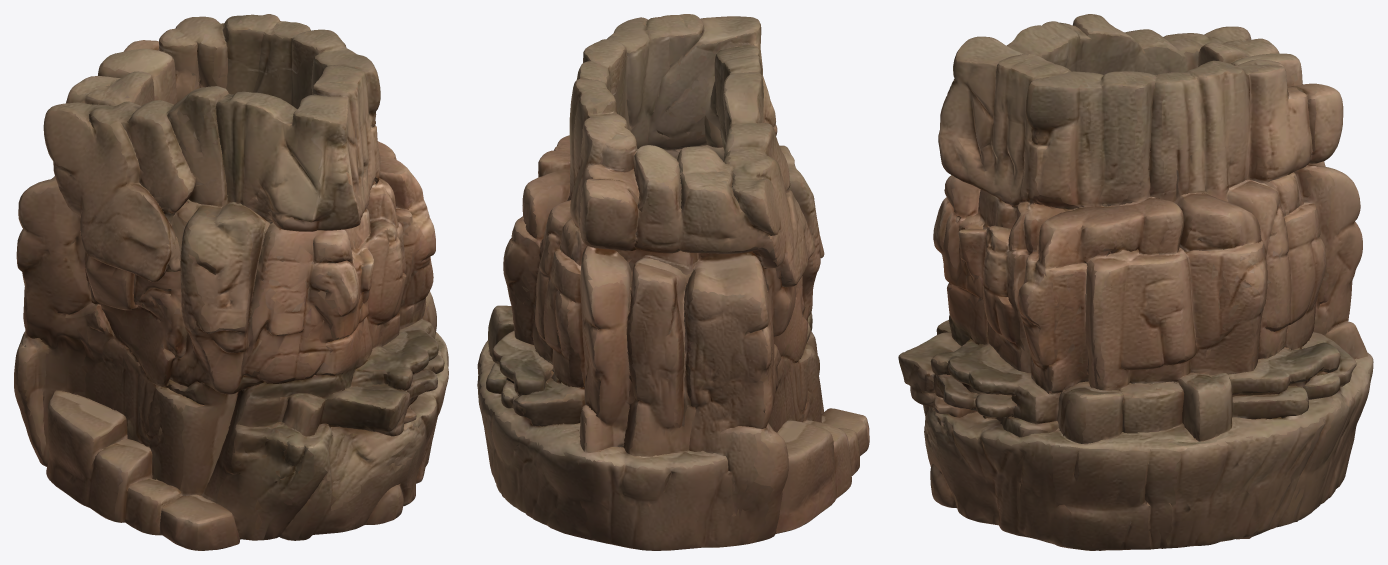
The model's file is broken-stump-v5.glb.
3 renders of one model, left to right at view 1: azimuth 30°, elevation 25°; view 2: azimuth 150°, elevation 25°; view 3: azimuth 270°, elevation 25°, orthographic. The views are drawn at different scales.
Parts seen in each view (by area): view 1: geometry_0; view 2: geometry_0; view 3: geometry_0.
Part boxes in pixels (left/top/right/bottom): geometry_0: left=14, top=14, right=448, bottom=550; geometry_0: left=477, top=14, right=869, bottom=550; geometry_0: left=898, top=14, right=1373, bottom=550.
Size of the model in its own units: 1.05 by 1.2 by 1.18.
Materials: 1 (1 with a texture image).
